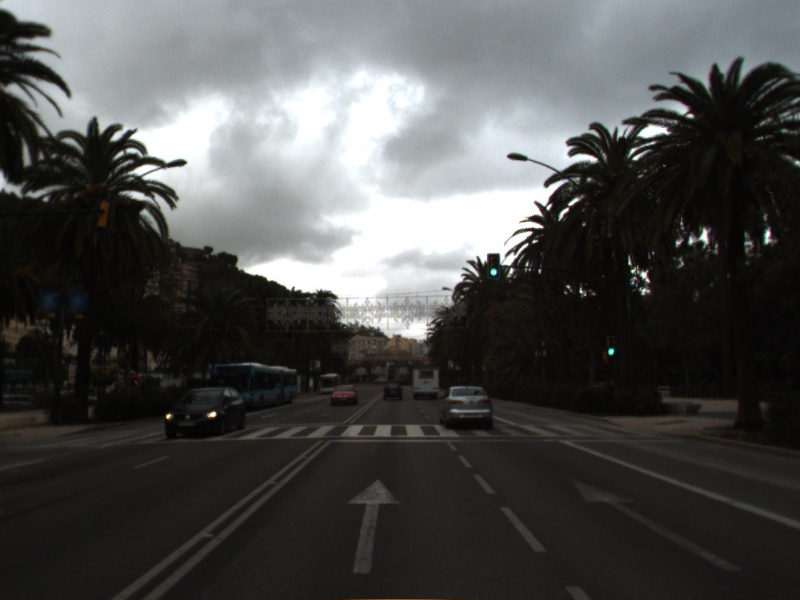STRAIGHT: (570, 476, 744, 575), (344, 475, 404, 576)
